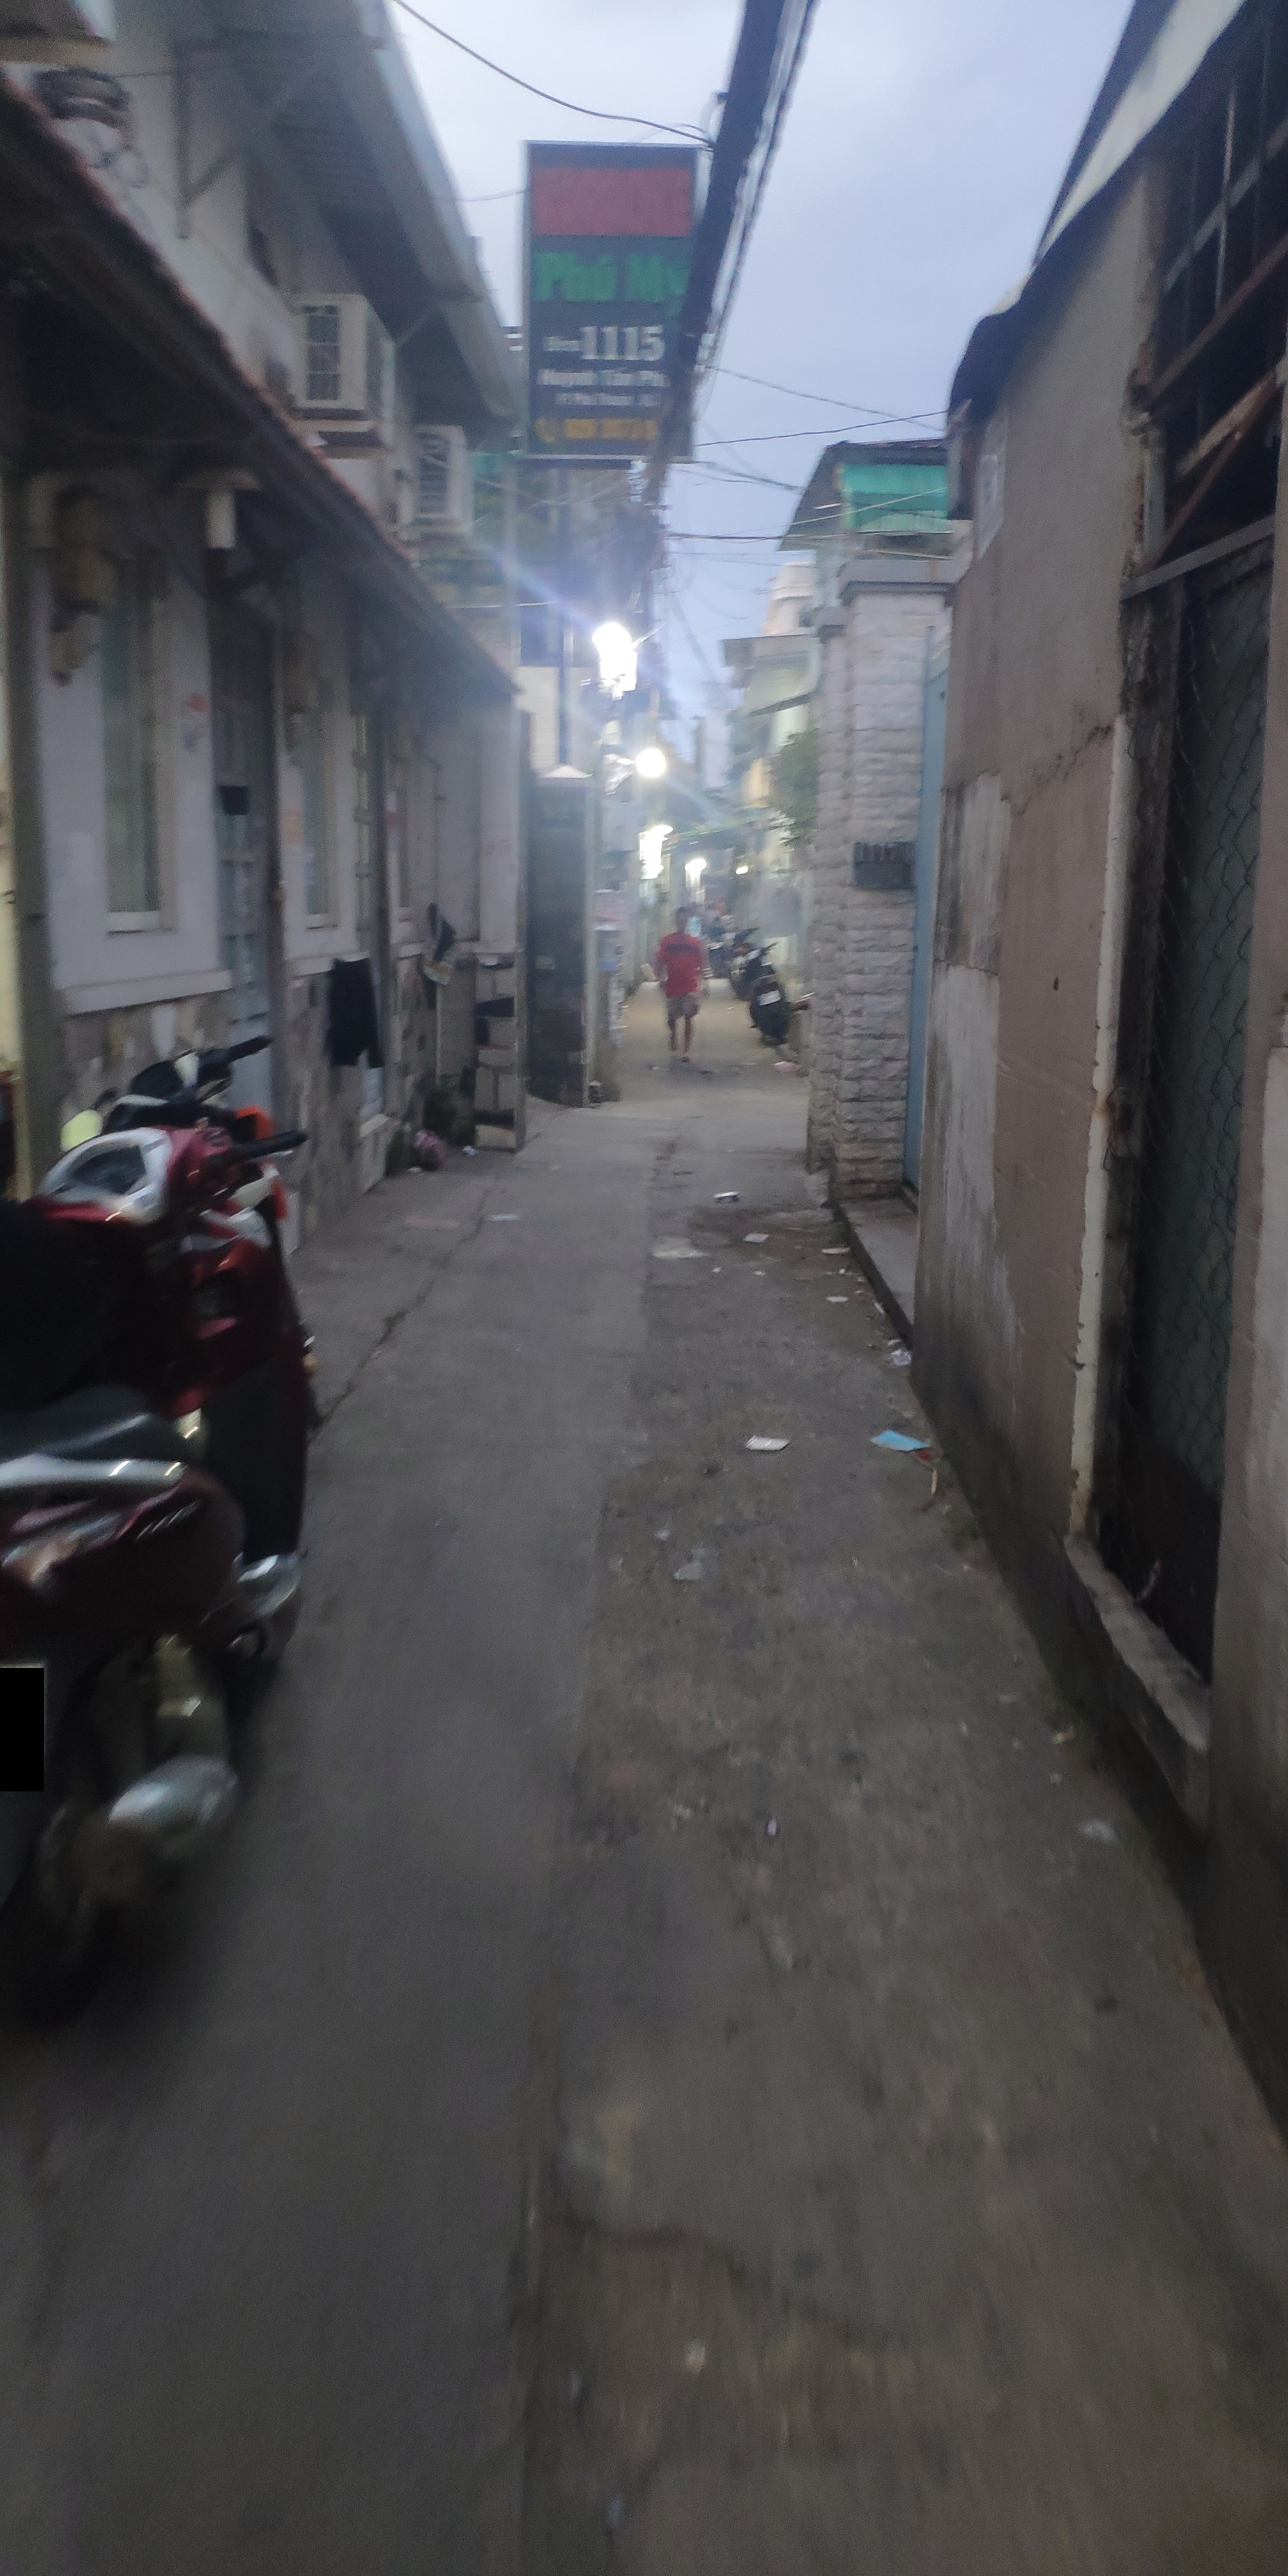hole: (531, 2200, 987, 2576)
